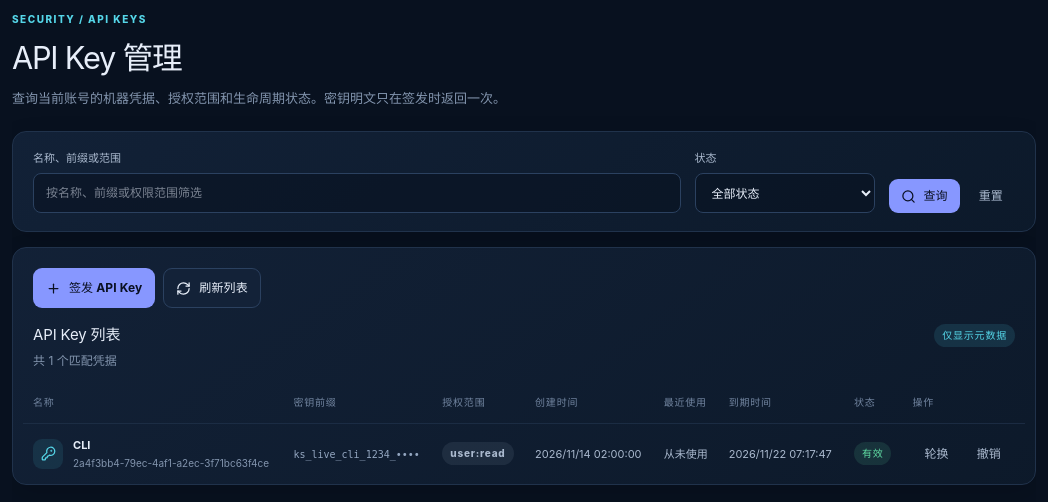
Test: ApiKeysPage › 点击轮换时再次检查当前时间，阻止未重绘页面上的过期密钥
The width and height of the screenshot is (1048, 502).
Expected: the text "CLI" is shown, [73,438,90,452]
What coordinates should you click on to do the following:
click the button "轮换"
I would click on:
 (937, 454)
Its box is [912,437,961,471].
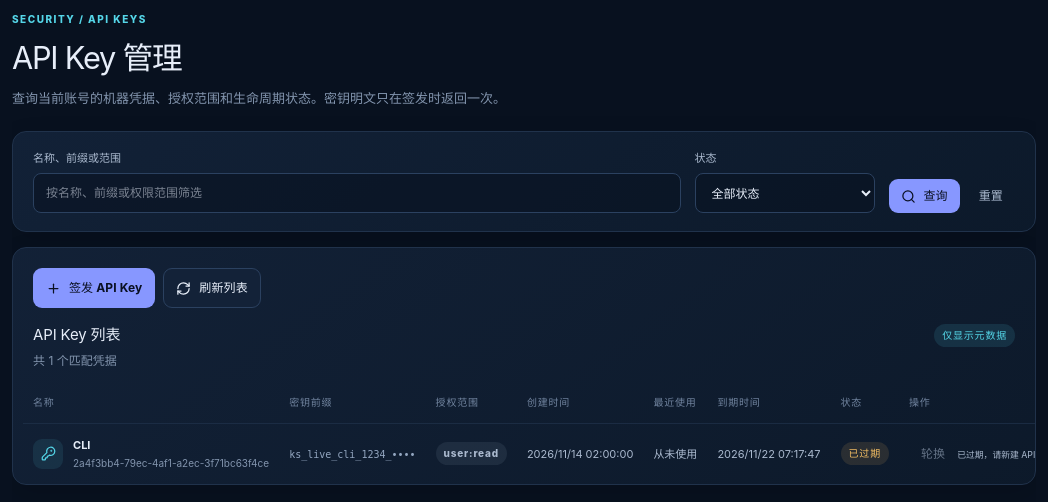
Expected: the text "已过期" is shown, [840,442,889,465]
